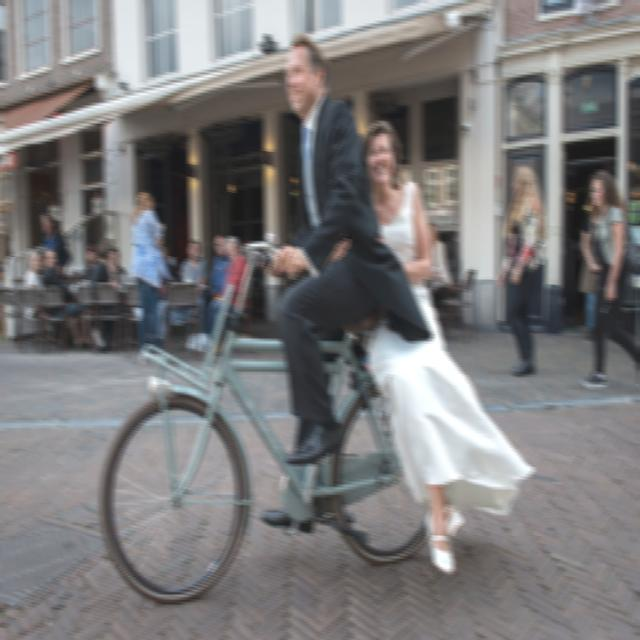Without Helmet: (280, 28, 331, 118)
